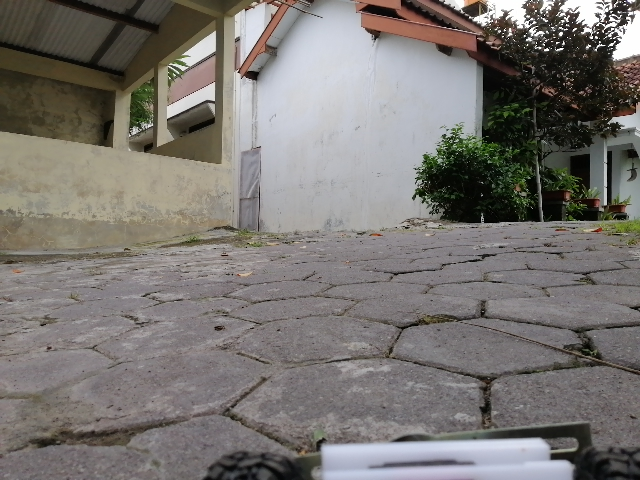road: (1, 245, 271, 425), (281, 245, 498, 417), (512, 246, 640, 417)
tree: (410, 120, 537, 222)
wall: (246, 56, 408, 228), (1, 130, 233, 242)
